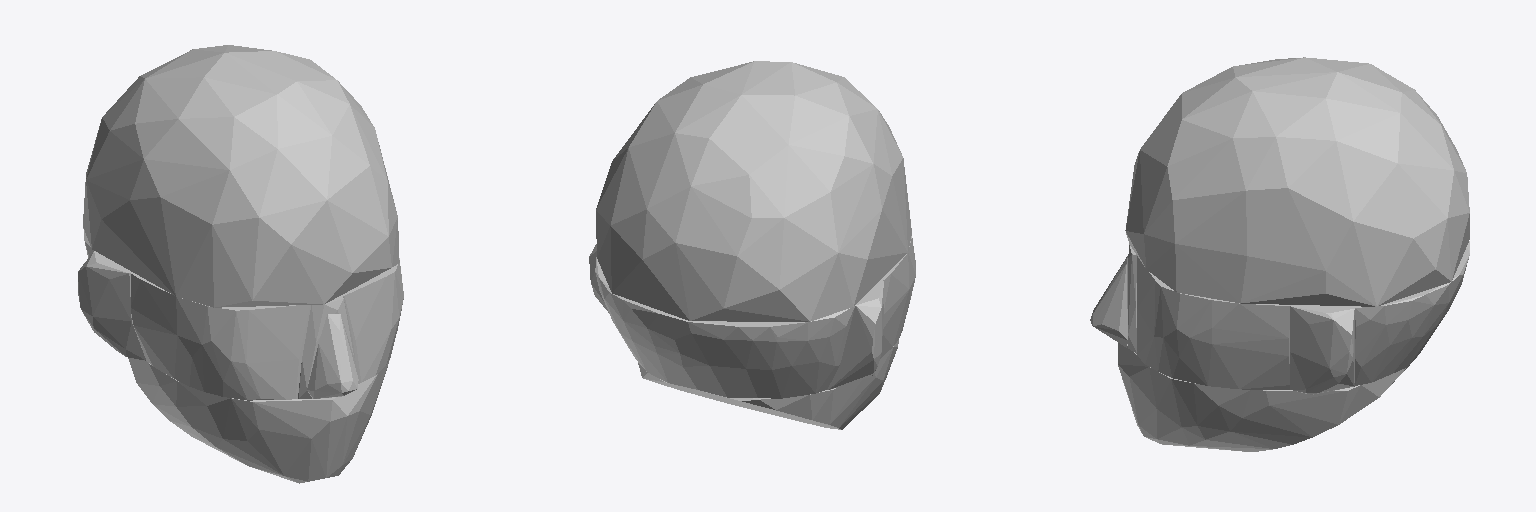
Rendered from head_mesh_female_new_vhacd.obj.
The picture shows the model from 3 angles: view 1: azimuth 30°, elevation 25°; view 2: azimuth 150°, elevation 25°; view 3: azimuth 270°, elevation 25°; orthographic projection.
Parts seen in each view (by area): view 1: convex_0, convex_2, convex_1, convex_6, convex_4, convex_3; view 2: convex_0, convex_5, convex_1, convex_6, convex_2; view 3: convex_0, convex_1, convex_2, convex_5, convex_6, convex_4, convex_3.
Part boxes in pixels (x1,y1,x2,y2): convex_0: (83,45,399,307); convex_2: (131,258,403,400); convex_1: (128,358,389,483); convex_6: (78,251,145,360); convex_4: (307,314,358,398); convex_3: (298,296,355,398); convex_0: (596,61,911,321); convex_5: (595,257,854,398); convex_1: (638,340,898,429); convex_6: (589,244,884,389); convex_2: (880,236,915,358); convex_0: (1125,57,1469,306); convex_1: (1118,343,1417,451); convex_2: (1137,256,1289,389); convex_5: (1355,241,1469,385); convex_6: (1290,305,1354,394); convex_4: (1090,256,1127,347); convex_3: (1128,245,1136,353).
Bounding box in the file's own units: 0.1735 × 0.2121 × 0.1997.